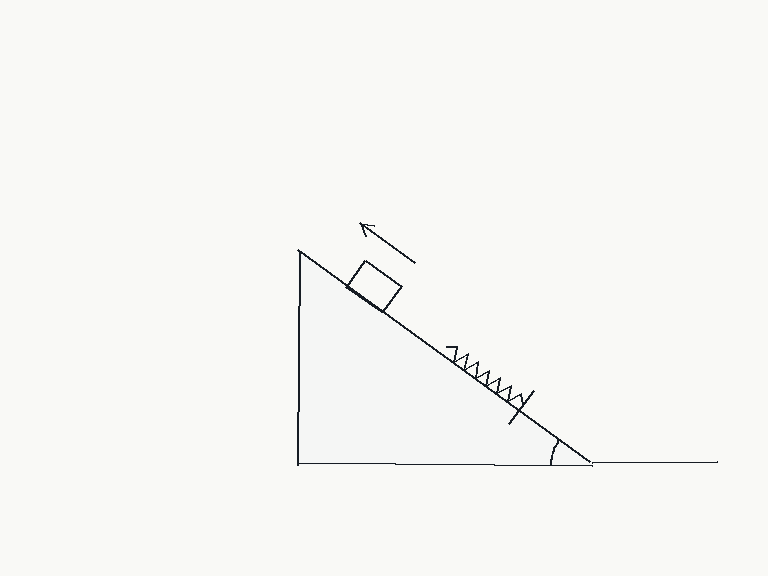block: (344, 258, 403, 314)
ramp: (296, 249, 593, 466)
spring: (445, 344, 525, 406)
